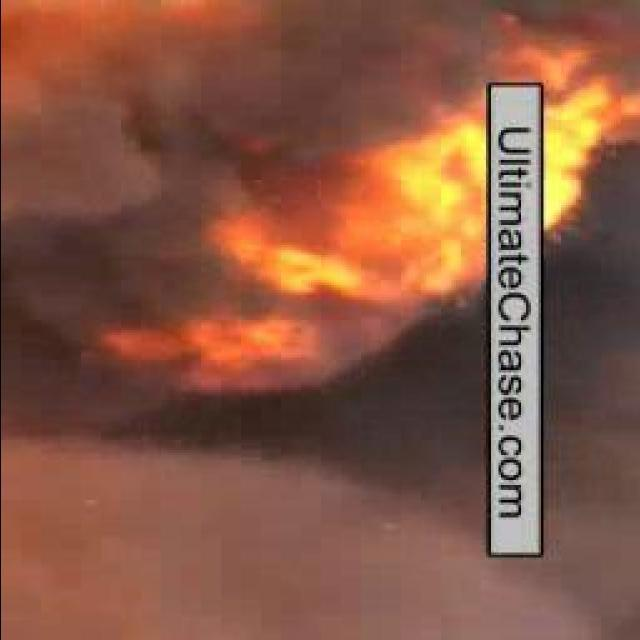Fire: (0, 4, 623, 367)
